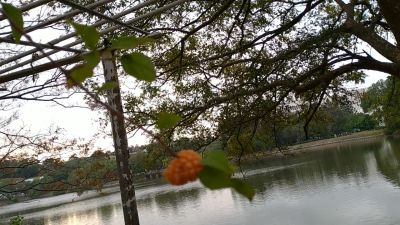eggs: (163, 148, 205, 188)
